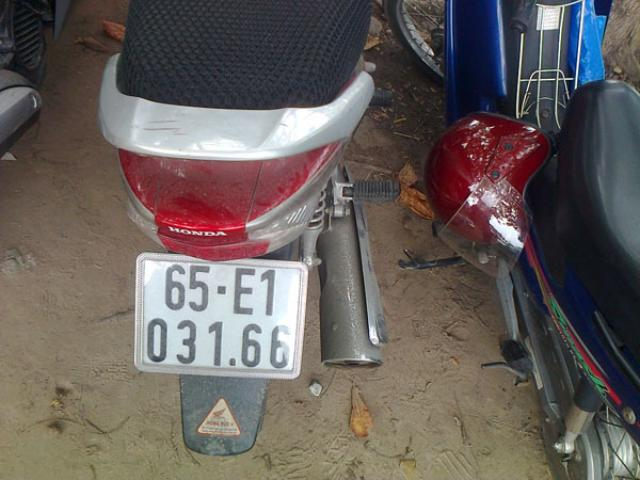plate: (142, 256, 298, 380)
